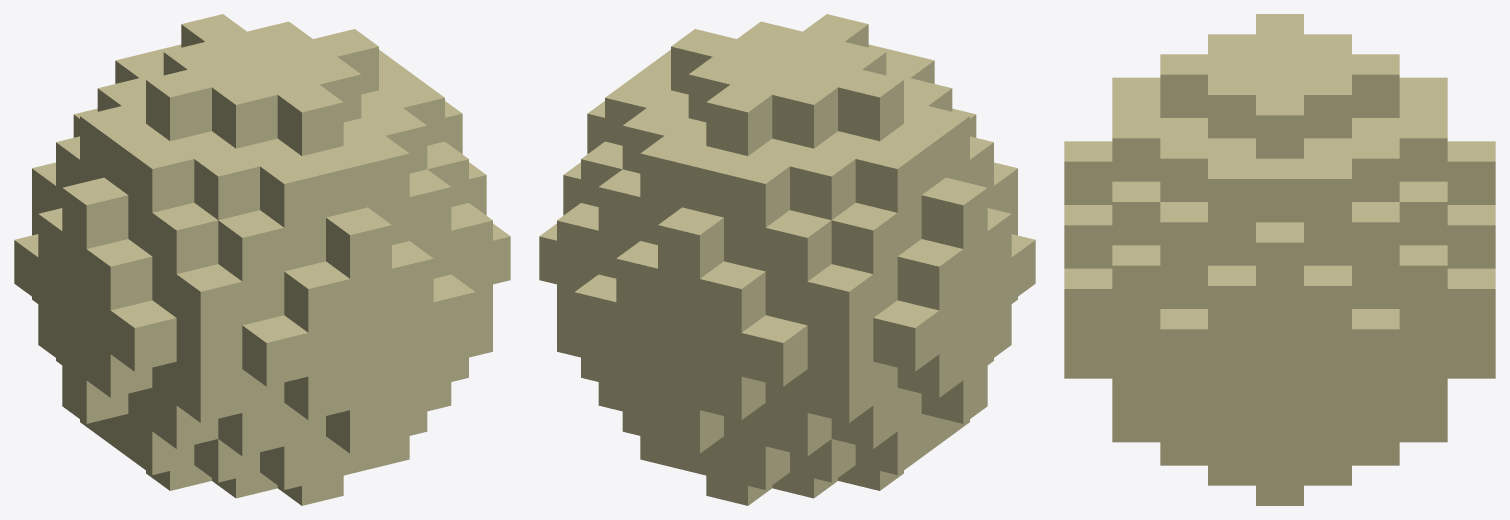
The model's file is drzewko-2.obj.
3 views of the same model, side by side, from view 1: azimuth 30°, elevation 25°; view 2: azimuth 150°, elevation 25°; view 3: azimuth 270°, elevation 25° (orthographic).
Size of the model in its own units: 0.9 by 0.9 by 0.9.
Materials: 1 (1 with a texture image).
